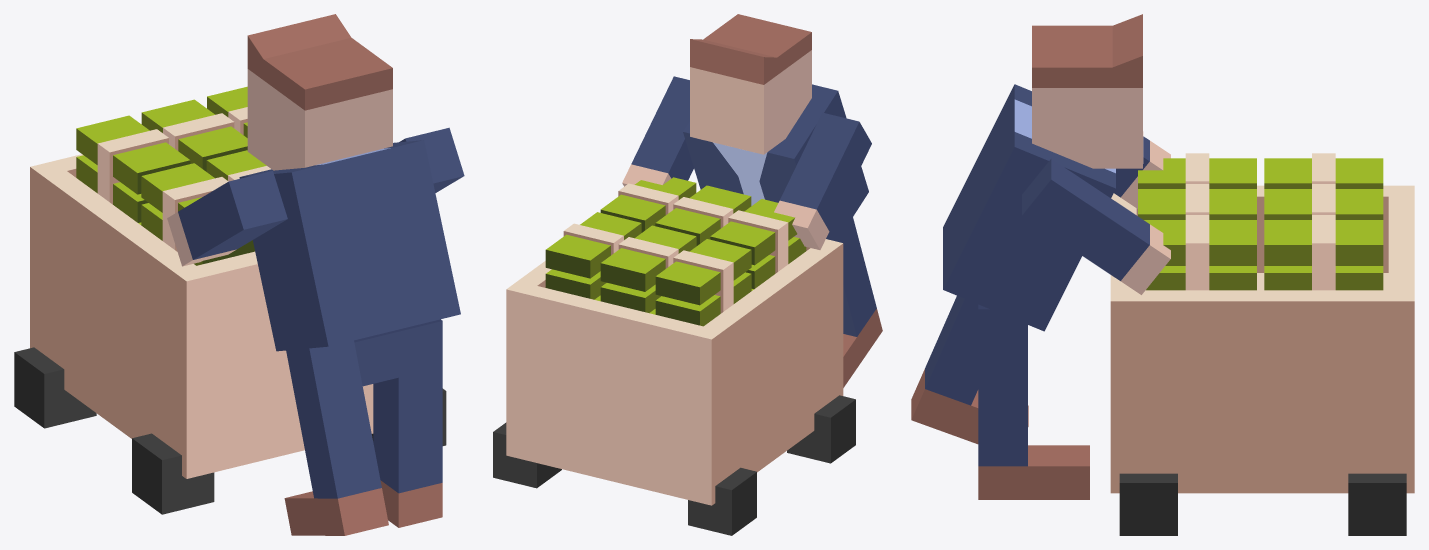
Rendered from office-worker-jump-1.glb.
3 views of the same model, side by side, from view 1: azimuth 30°, elevation 25°; view 2: azimuth 150°, elevation 25°; view 3: azimuth 270°, elevation 25° (orthographic). The views are drawn at different scales.
Parts seen in each view (by area): view 1: Cube.020, UNIT.090, UNIT.089, Cube.021, UNIT.088, UNIT.087, UNIT.086, UNIT.084, UNIT.085; view 2: Cube.020, Cube.021, UNIT.089, UNIT.090, UNIT.086, UNIT.085, UNIT.088; view 3: Cube.020, Cube.021, UNIT.090, UNIT.089, UNIT.087, UNIT.085, UNIT.088, UNIT.086.
Part boxes in pixels (box(x1,y1,x2,y2)): Cube.020: box(14, 154, 446, 514); UNIT.090: box(239, 140, 460, 351); UNIT.089: box(247, 14, 392, 170); Cube.021: box(76, 86, 271, 265); UNIT.088: box(281, 324, 388, 535); UNIT.087: box(373, 319, 442, 527); UNIT.086: box(167, 171, 287, 266); UNIT.084: box(354, 330, 398, 386); UNIT.085: box(399, 127, 464, 192); Cube.020: box(493, 239, 855, 535); Cube.021: box(545, 177, 806, 326); UNIT.089: box(690, 14, 811, 154); UNIT.090: box(683, 84, 868, 240); UNIT.086: box(774, 112, 871, 249); UNIT.085: box(622, 76, 693, 186); UNIT.088: box(829, 217, 882, 387); Cube.020: box(1110, 185, 1414, 535); Cube.021: box(1138, 153, 1383, 290); UNIT.090: box(943, 84, 1115, 331); UNIT.089: box(1032, 14, 1143, 168); UNIT.087: box(978, 304, 1089, 499); UNIT.085: box(1022, 159, 1170, 294); UNIT.088: box(911, 296, 1028, 444); UNIT.086: box(1114, 136, 1170, 208).
Size of the model in its own units: 0.9007 by 1.35 by 1.42.
Materials: 3 (3 with a texture image).
